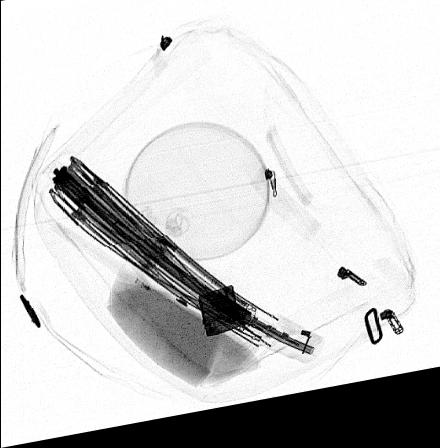Lighter: (197, 292, 241, 344)
